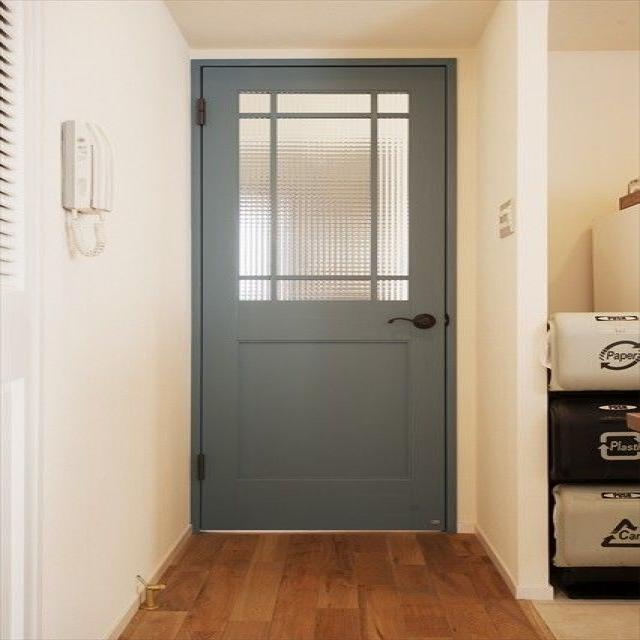door: (192, 59, 454, 532)
